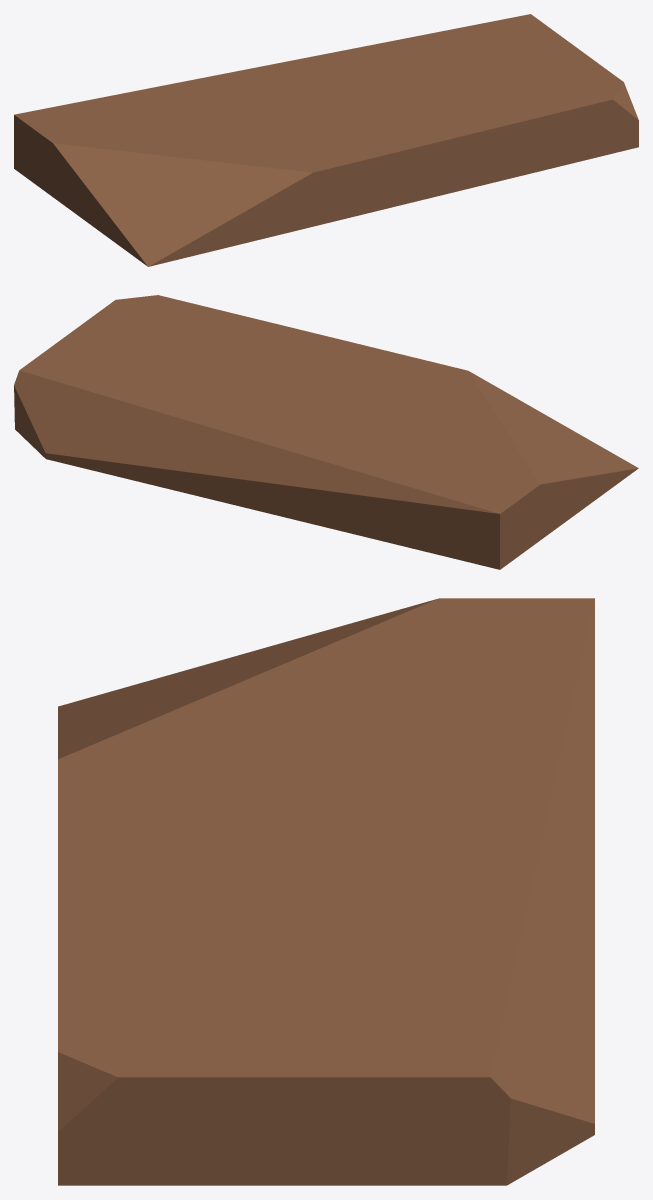
File: Stoneslab_003.FBX
3 renders of one model, top to bottom at view 1: azimuth 30°, elevation 25°; view 2: azimuth 150°, elevation 25°; view 3: azimuth 270°, elevation 25°, orthographic. The views are drawn at different scales.
Parts seen in each view (by area): view 1: Stoneslab_003; view 2: Stoneslab_003; view 3: Stoneslab_003.
Part boxes in pixels (box(x1,y1,x2,y2)): Stoneslab_003: box(14, 14, 638, 266); Stoneslab_003: box(14, 295, 638, 569); Stoneslab_003: box(58, 598, 594, 1185).
Size of the model in its own units: 37.4 by 3.94 by 17.72.
